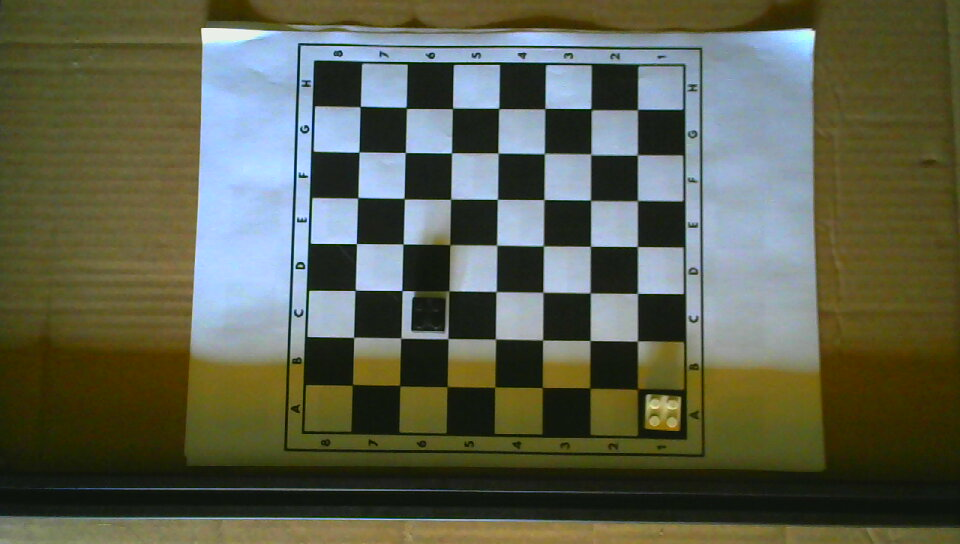bp: (409, 294, 446, 333)
wp: (642, 390, 684, 433)
